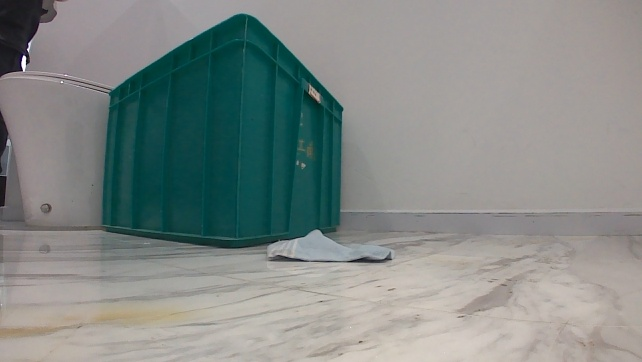socks: (263, 227, 398, 261)
toilet: (0, 64, 116, 230)
